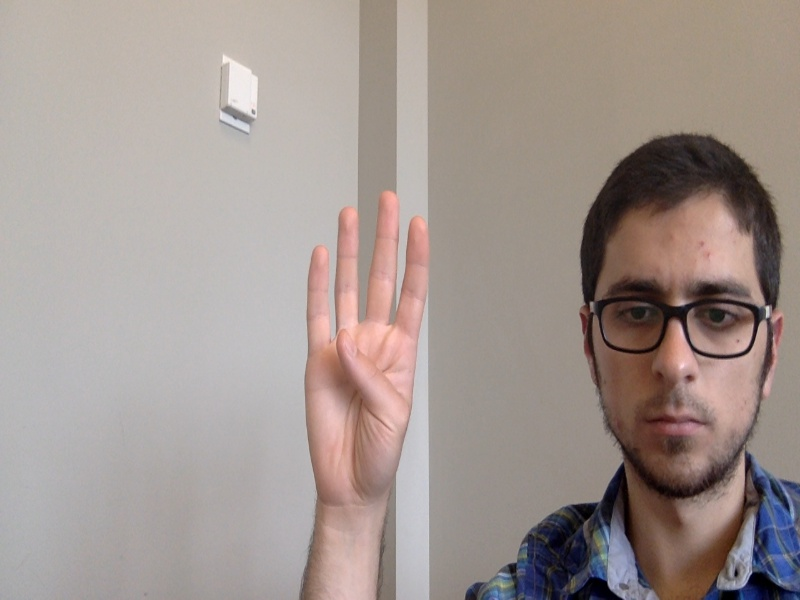4-hand: (304, 191, 427, 503)
